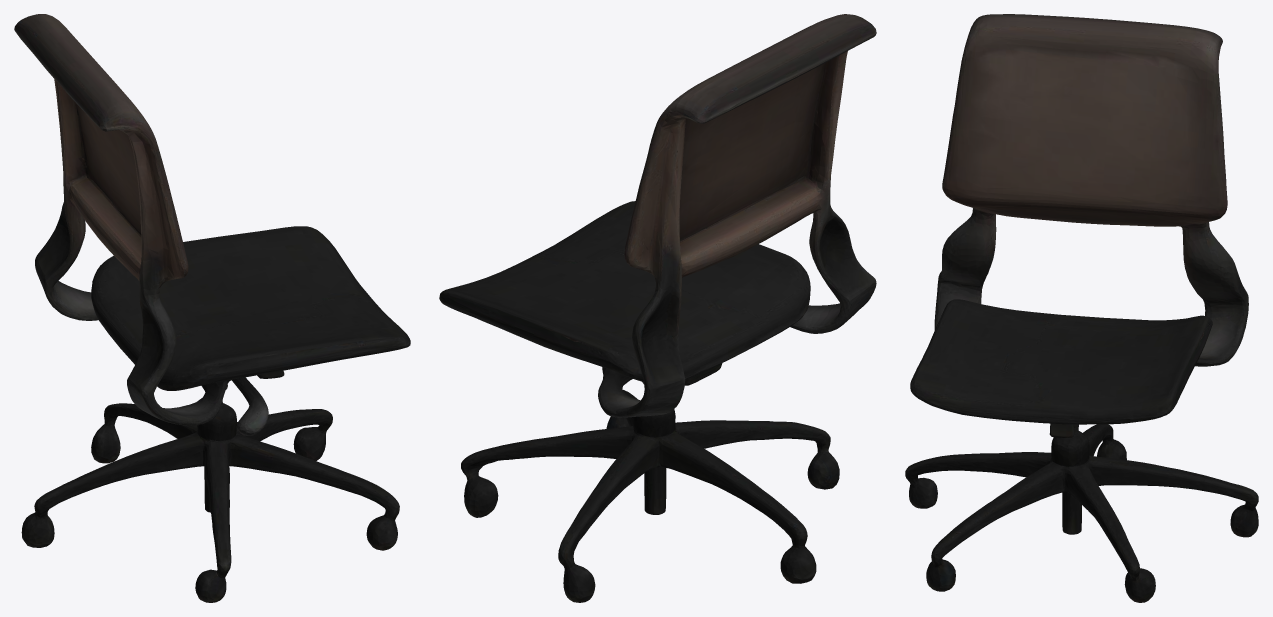
Rendered from black_mesh_office_chair_in_right_foreground_000.glb.
3 renders of one model, left to right at view 1: azimuth 30°, elevation 25°; view 2: azimuth 150°, elevation 25°; view 3: azimuth 270°, elevation 25°, orthographic. The views are drawn at different scales.
Parts seen in each view (by area): view 1: phase2_final_black_mesh_office_chair_in_right_foreground_000; view 2: phase2_final_black_mesh_office_chair_in_right_foreground_000; view 3: phase2_final_black_mesh_office_chair_in_right_foreground_000.
Boxes of the visible parts, x1=… form: phase2_final_black_mesh_office_chair_in_right_foreground_000: x1=14, y1=14, x2=410, y2=602; phase2_final_black_mesh_office_chair_in_right_foreground_000: x1=439, y1=14, x2=876, y2=602; phase2_final_black_mesh_office_chair_in_right_foreground_000: x1=905, y1=14, x2=1258, y2=602.
Bounding box in the file's own units: 0.3746 × 0.531 × 0.3656.
Materials: 1 (1 with a texture image).
